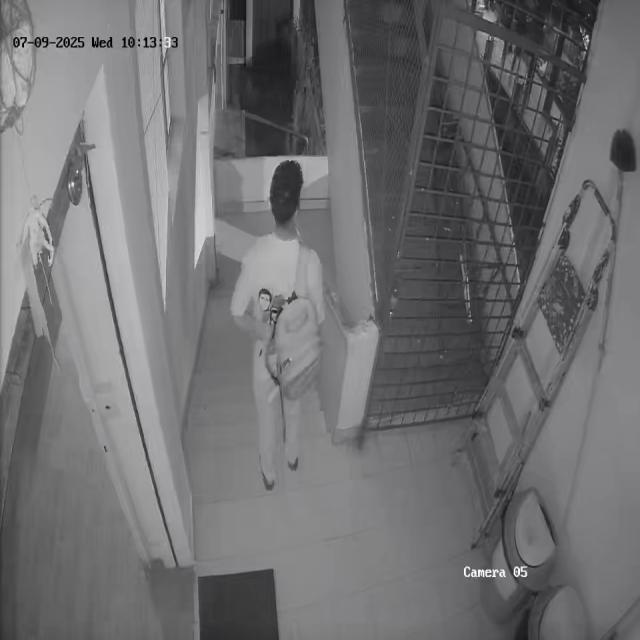person: (224, 157, 329, 484)
